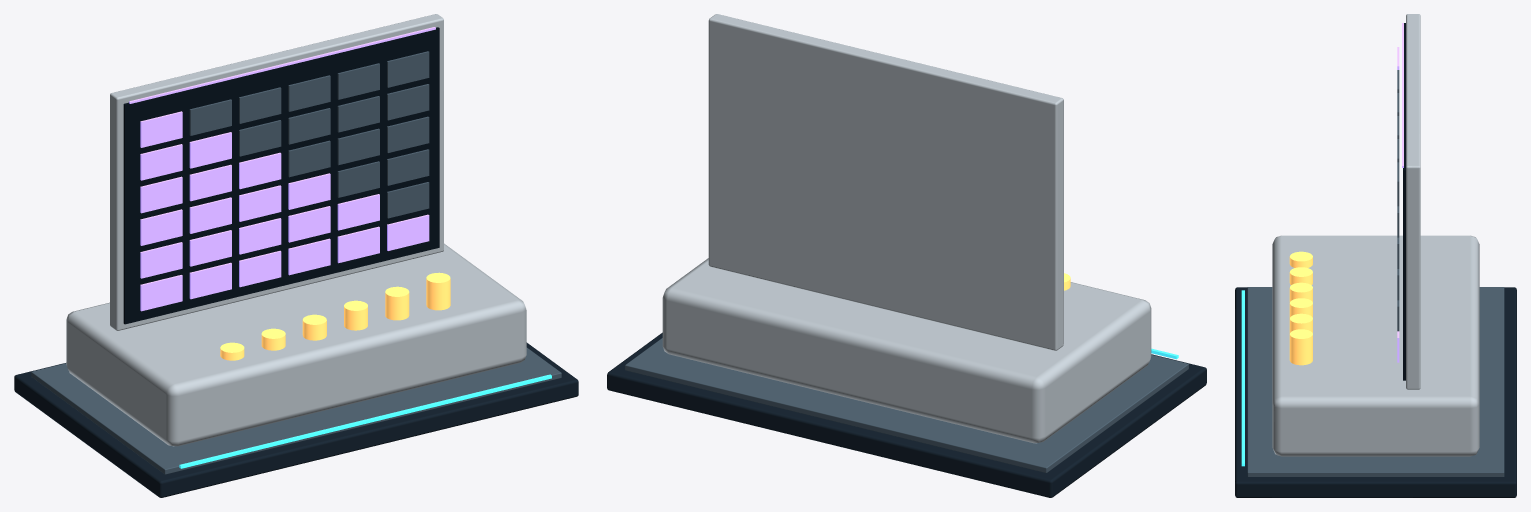
The model's file is attention-workbench.glb.
The picture shows the model from 3 angles, left to right: view 1: azimuth 30°, elevation 25°; view 2: azimuth 150°, elevation 25°; view 3: azimuth 270°, elevation 25°; orthographic projection. The views are drawn at different scales.
Visible parts, largest first — view 1: desk, display, base, inlay, frame, status_strip, cell_r1_c5, cell_r2_c0, cell_r2_c3, cell_r4_c5, cell_r5_c3, cell_r0_c0 (+34 smaller); view 2: frame, desk, inlay, base; view 3: desk, inlay, base, frame, display, demo_output_5, status_strip, demo_output_3, demo_output_2, demo_output_4, demo_output_1, demo_output_0.
Boxes of the visible parts, x1,y1,x2,y2 form: desk: [66, 243, 526, 446]; display: [123, 27, 439, 324]; base: [14, 342, 578, 497]; inlay: [31, 347, 561, 474]; frame: [110, 14, 443, 330]; status_strip: [179, 374, 551, 468]; cell_r1_c5: [387, 84, 429, 120]; cell_r2_c0: [140, 176, 182, 213]; cell_r2_c3: [288, 140, 330, 177]; cell_r4_c5: [387, 182, 429, 218]; cell_r5_c3: [288, 238, 330, 275]; cell_r0_c0: [140, 111, 182, 147]; frame: [708, 14, 1063, 350]; desk: [662, 258, 1151, 443]; inlay: [625, 338, 1188, 472]; base: [607, 332, 1206, 497]; desk: [1272, 235, 1479, 456]; inlay: [1247, 287, 1504, 476]; base: [1235, 287, 1516, 497]; frame: [1406, 14, 1420, 389]; display: [1403, 23, 1405, 380]; demo_output_5: [1289, 329, 1312, 365]; status_strip: [1241, 290, 1244, 466]; demo_output_3: [1289, 298, 1312, 318]; demo_output_2: [1289, 282, 1312, 302]; demo_output_4: [1289, 313, 1312, 333]; demo_output_1: [1289, 267, 1312, 285]; demo_output_0: [1289, 251, 1312, 267].
Size of the model in its own units: 5.6 by 4.14 by 3.4.
